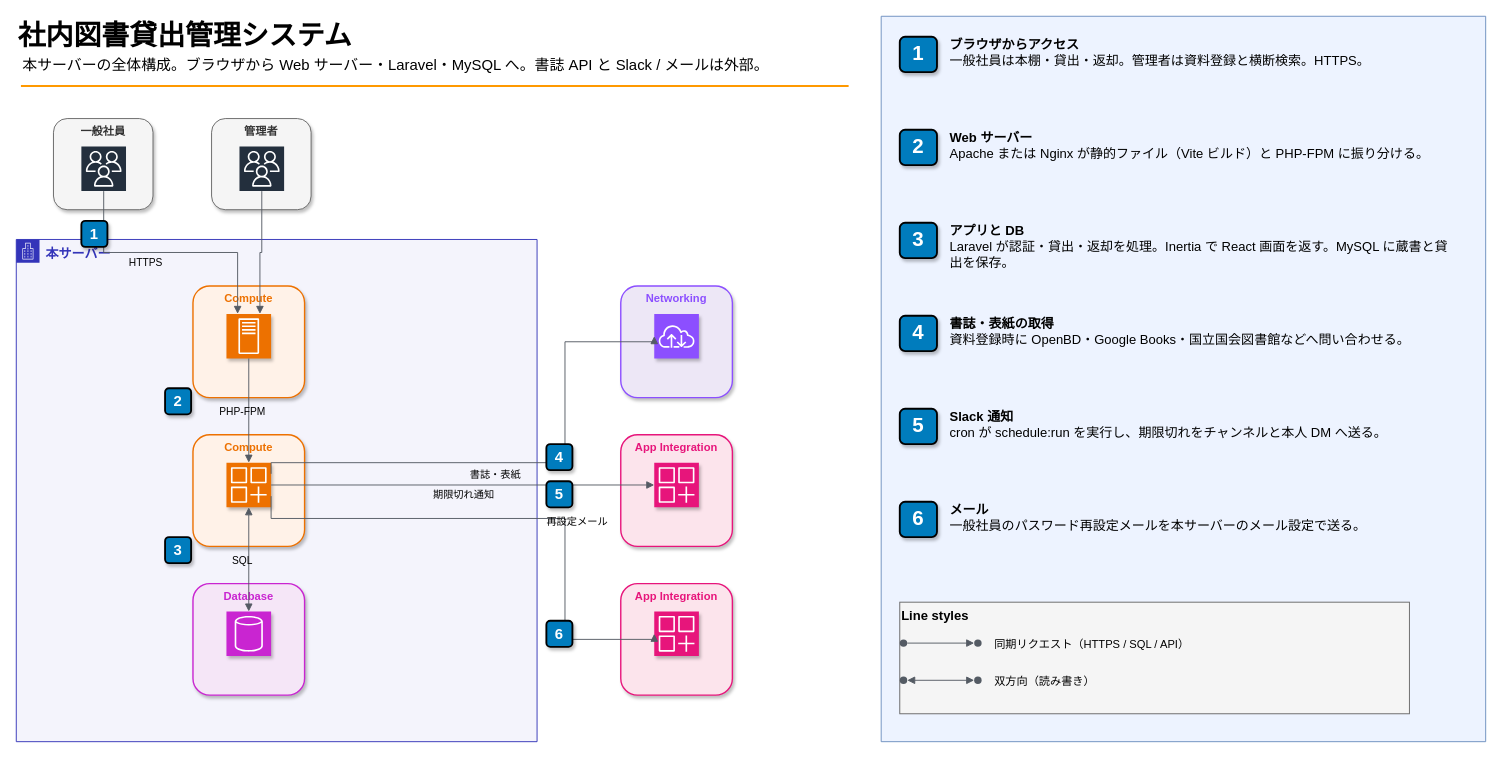
Some shapes in this 1502 by 777 pixel diagram are drawn without their labels. Here are the shapes that lost their labels. From the top down, the centre of each, then its label:
(249,337): Apache / Nginx HTTPS, static
(677,337): 書誌・表紙 API OpenBD, Google, NDL
(249,486): Laravel + Inertia PHP, React, cron
(677,486): Slack 期限切れ通知・DM
(249,635): MySQL users, books, loans
(677,635): メール パスワード再設定
